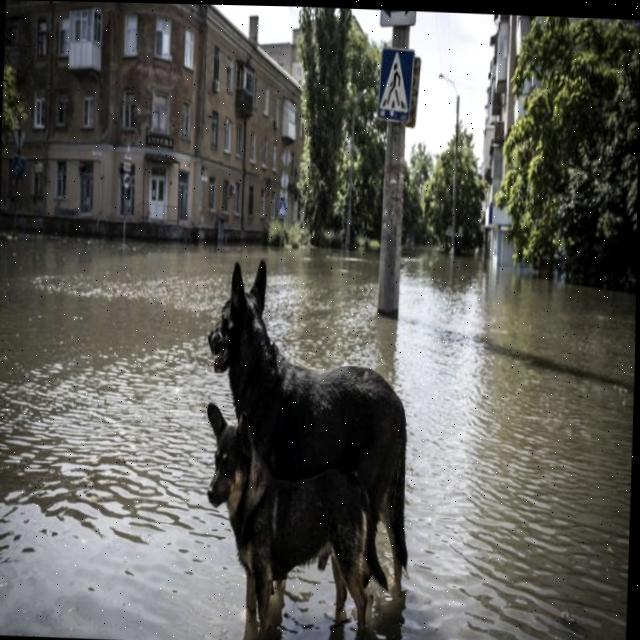dog: (174, 250, 432, 621), (173, 399, 401, 640)
